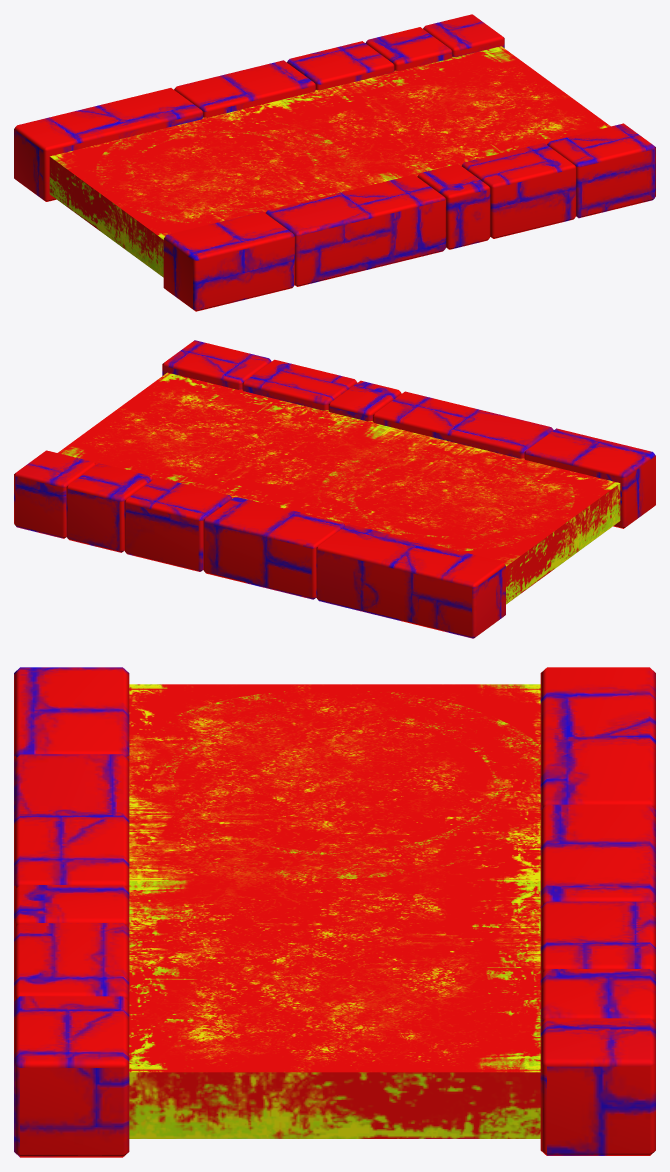
The model's file is Walkway1.fbx.
3 renders of one model, top to bottom at view 1: azimuth 30°, elevation 25°; view 2: azimuth 150°, elevation 25°; view 3: azimuth 270°, elevation 25°, orthographic. The views are drawn at different scales.
Visible parts, largest first — view 1: Cube.002; view 2: Cube.002; view 3: Cube.002.
Boxes of the visible parts, x1,y1,x2,y2 form: Cube.002: (14,14,655,311); Cube.002: (14,340,655,638); Cube.002: (14,667,655,1157).
Size of the model in its own units: 615 by 70.36 by 420.
